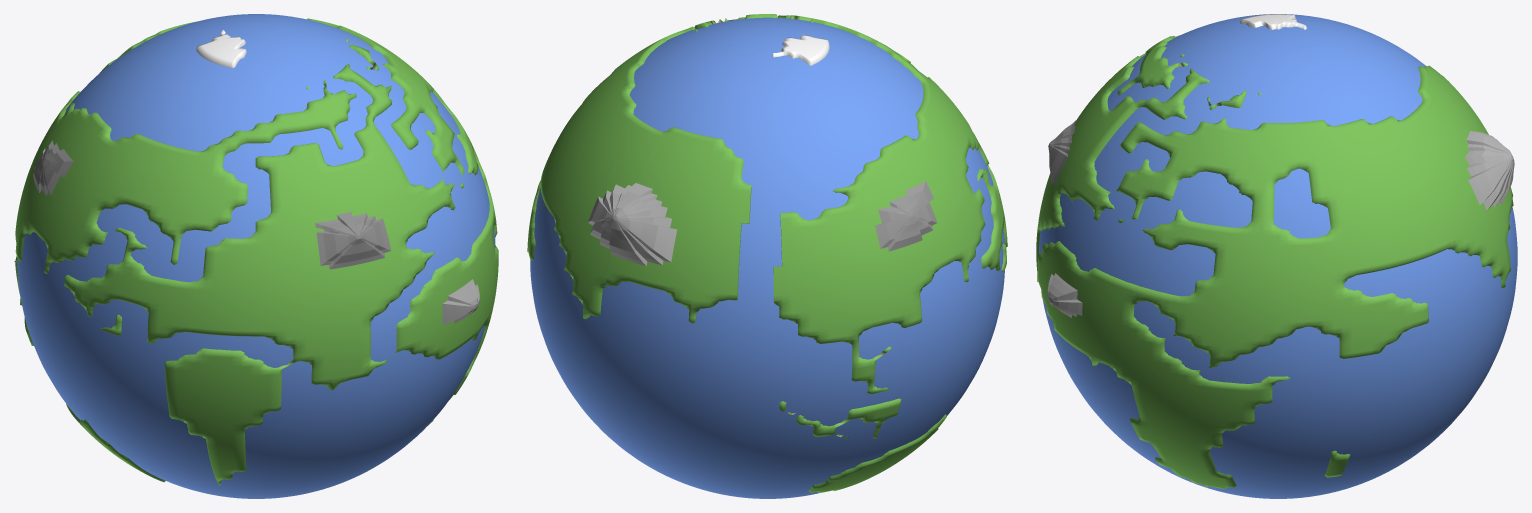
Rendered from Earth_Project_Customer.fbx.
3 renders of one model, left to right at view 1: azimuth 30°, elevation 25°; view 2: azimuth 150°, elevation 25°; view 3: azimuth 270°, elevation 25°, orthographic.
Visible parts, largest first — view 1: Land, Water; view 2: Water, Land; view 3: Land, Water.
Boxes of the visible parts, x1,y1,x2,y2 form: Land: [14, 18, 498, 485]; Water: [17, 14, 495, 498]; Water: [530, 17, 1004, 498]; Land: [527, 14, 1007, 493]; Land: [1036, 14, 1514, 488]; Water: [1039, 14, 1517, 498].
Bounding box in the file's own units: 36.5 × 37.32 × 36.5.
